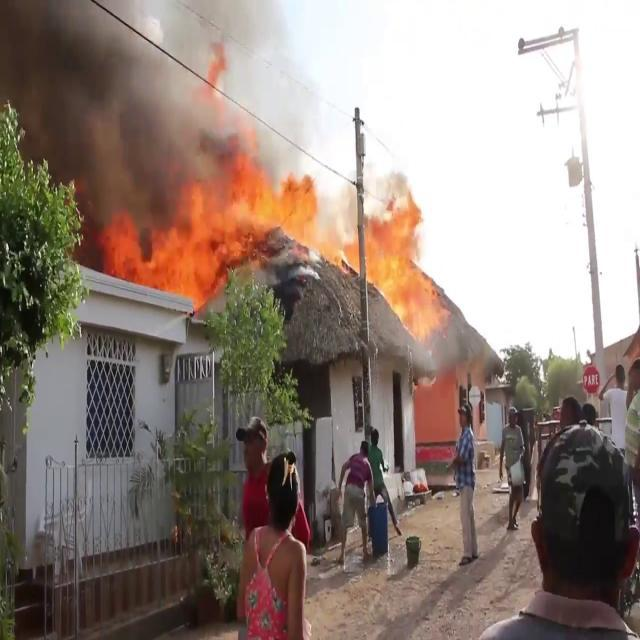Fire: (100, 152, 340, 304), (362, 195, 446, 338)
Smoke: (1, 1, 318, 208)
